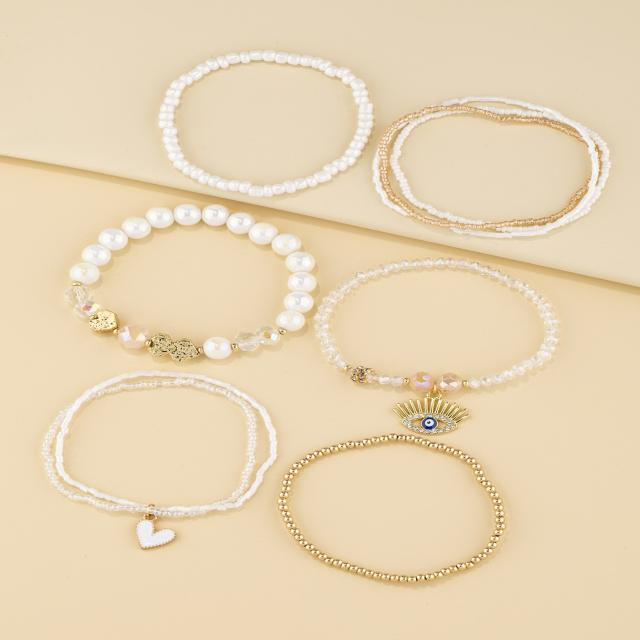bracelet: (1, 335, 294, 567), (64, 0, 381, 210), (35, 174, 338, 374), (366, 55, 640, 259), (326, 251, 616, 439), (277, 403, 534, 599)
